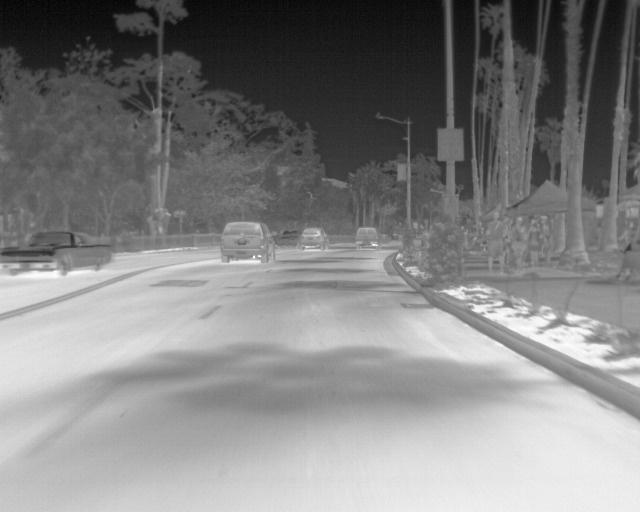bicycle: (1, 229, 112, 274), (219, 218, 279, 262), (294, 226, 331, 249), (353, 226, 379, 247)
empty: (483, 211, 506, 277), (507, 216, 528, 271), (527, 218, 545, 268)
